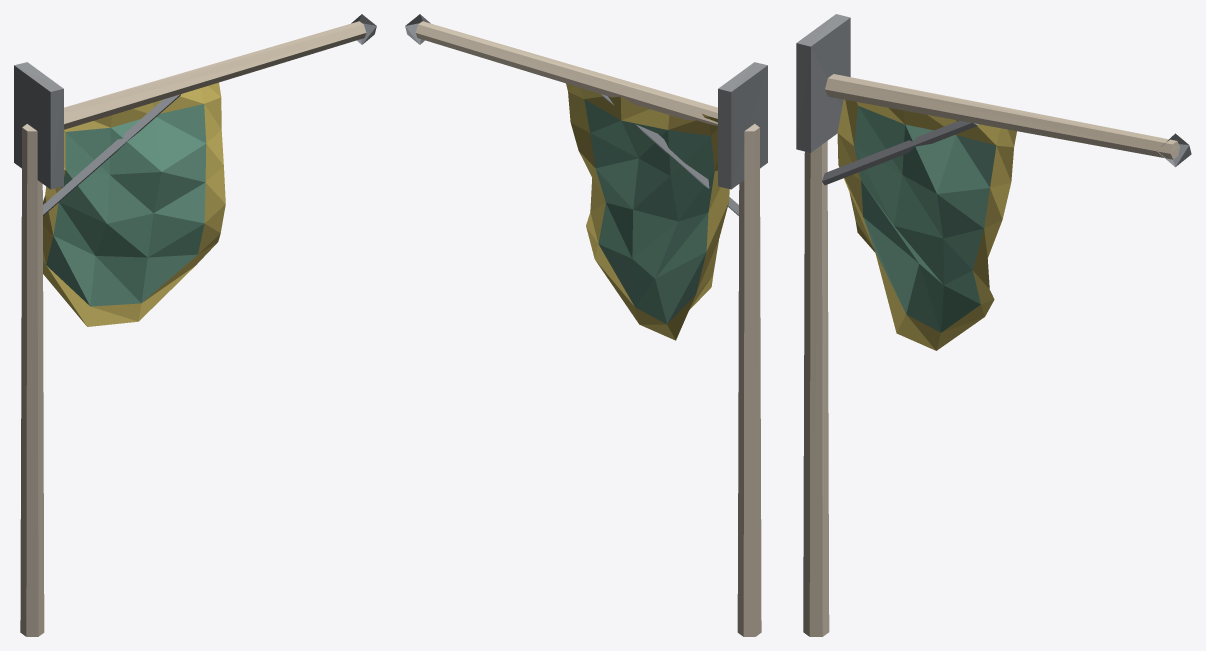
File: flag.roundFly.cuiqi__pole.horizontal.xiecheng__armHang.glb
The picture shows the model from 3 angles, left to right: view 1: azimuth 30°, elevation 25°; view 2: azimuth 150°, elevation 25°; view 3: azimuth 330°, elevation 25°; orthographic projection. The views are drawn at different scales.
Visible parts, largest first — view 1: flag.roundFly.cuiqi; view 2: flag.roundFly.cuiqi; view 3: flag.roundFly.cuiqi.
Boxes of the visible parts, x1,y1,x2,y2 form: flag.roundFly.cuiqi: (14,14,376,636); flag.roundFly.cuiqi: (405,14,767,636); flag.roundFly.cuiqi: (796,14,1191,636).
Size of the model in its own units: 2.12 by 3.18 by 0.4479.
